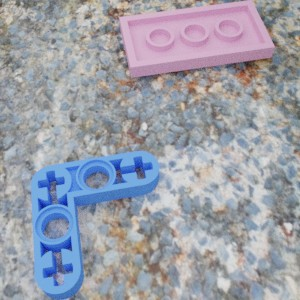lego: (30, 150, 159, 299), (119, 0, 274, 77)
